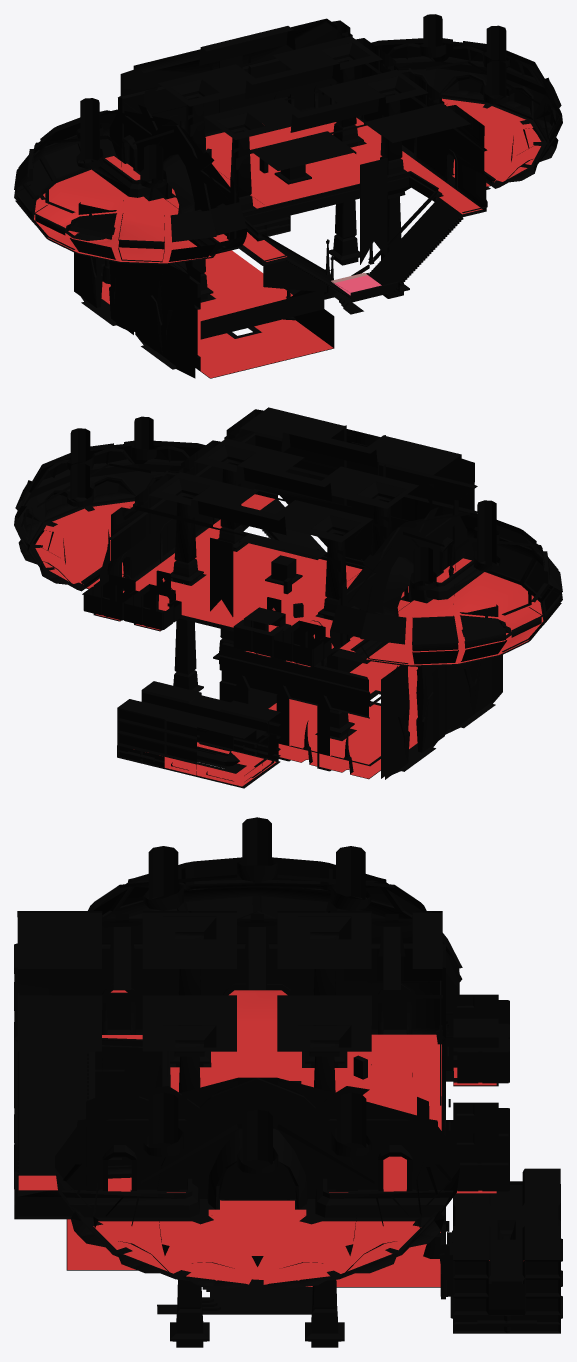
The model's file is fy_cn_mairie.max.fobj.obj.
3 renders of one model, top to bottom at view 1: azimuth 30°, elevation 25°; view 2: azimuth 150°, elevation 25°; view 3: azimuth 270°, elevation 25°, orthographic. The views are drawn at different scales.
Parts seen in each view (by area): view 1: Mesh27, Box49, Box1279, Box100, meshFBXASC032colFBXASC032hall, meshFBXASC032colFBXASC032etage, meshFBXASC032colFBXASC032tribunal, initialShadingGroup meshFBXASC032colFBXASC032salleFBXASC032cFBXA, meshFBXASC032colFBXASC032escalier2, Box16, bigFBXASC032porteFBXASC0321, colonneFBXASC032H02 (+12 smaller); view 2: Mesh27, Box49, Box1279, Box100, meshFBXASC032colFBXASC032etage, meshFBXASC032colFBXASC032hall, meshFBXASC032colFBXASC032tribunal, Box14, initialShadingGroup meshFBXASC032colFBXASC032salleFBXASC032cFBXA, bigFBXASC032porteFBXASC03202, colonneFBXASC032H03, bigFBXASC032porteFBXASC03203 (+22 smaller); view 3: Mesh27, Box1279, Box49, initialShadingGroup meshFBXASC032colFBXASC032salleFBXASC032cFBXA, meshFBXASC032colFBXASC032etage, Box14, Object28, meshFBXASC032colFBXASC032escalier1, Box100, hk01, meshFBXASC032colFBXASC032hall, hk05 (+15 smaller).
Part boxes in pixels (left/top/right/bottom): Mesh27: left=118, top=18, right=487, bottom=265; Box49: left=14, top=97, right=246, bottom=264; Box1279: left=371, top=14, right=562, bottom=188; Box100: left=81, top=237, right=399, bottom=378; meshFBXASC032colFBXASC032hall: left=101, top=250, right=333, bottom=378; meshFBXASC032colFBXASC032etage: left=172, top=117, right=482, bottom=261; meshFBXASC032colFBXASC032tribunal: left=34, top=169, right=211, bottom=263; initialShadingGroup meshFBXASC032colFBXASC032salleFBXASC032cFBXA: left=442, top=98, right=541, bottom=182; meshFBXASC032colFBXASC032escalier2: left=368, top=197, right=461, bottom=285; Box16: left=360, top=158, right=387, bottom=264; bigFBXASC032porteFBXASC0321: left=139, top=263, right=162, bottom=355; colonneFBXASC032H02: left=216, top=113, right=264, bottom=211; Mesh27: left=107, top=407, right=477, bottom=655; Box49: left=330, top=500, right=562, bottom=666; Box1279: left=14, top=416, right=205, bottom=591; Box100: left=219, top=599, right=502, bottom=779; meshFBXASC032colFBXASC032etage: left=123, top=494, right=408, bottom=648; meshFBXASC032colFBXASC032hall: left=268, top=661, right=417, bottom=778; meshFBXASC032colFBXASC032tribunal: left=366, top=572, right=543, bottom=665; Box14: left=117, top=681, right=280, bottom=739; initialShadingGroup meshFBXASC032colFBXASC032salleFBXASC032cFBXA: left=35, top=501, right=134, bottom=584; bigFBXASC032porteFBXASC03202: left=381, top=665, right=409, bottom=779; colonneFBXASC032H03: left=161, top=478, right=209, bottom=584; bigFBXASC032porteFBXASC03203: left=416, top=665, right=444, bottom=752; Mesh27: left=14, top=911, right=445, bottom=1201; Box1279: left=55, top=1077, right=459, bottom=1289; Box49: left=88, top=817, right=462, bottom=1011; initialShadingGroup meshFBXASC032colFBXASC032salleFBXASC032cFBXA: left=93, top=1200, right=420, bottom=1284; meshFBXASC032colFBXASC032etage: left=18, top=1034, right=441, bottom=1190; Box14: left=453, top=1168, right=560, bottom=1274; Object28: left=453, top=1260, right=560, bottom=1333; meshFBXASC032colFBXASC032escalier1: left=19, top=1051, right=87, bottom=1175; Box100: left=14, top=1046, right=449, bottom=1314; hk01: left=446, top=1018, right=509, bottom=1086; meshFBXASC032colFBXASC032hall: left=67, top=1219, right=440, bottom=1286; hk05: left=453, top=1131, right=509, bottom=1194.
Size of the model in its own units: 6497 by 2693 by 4069.
